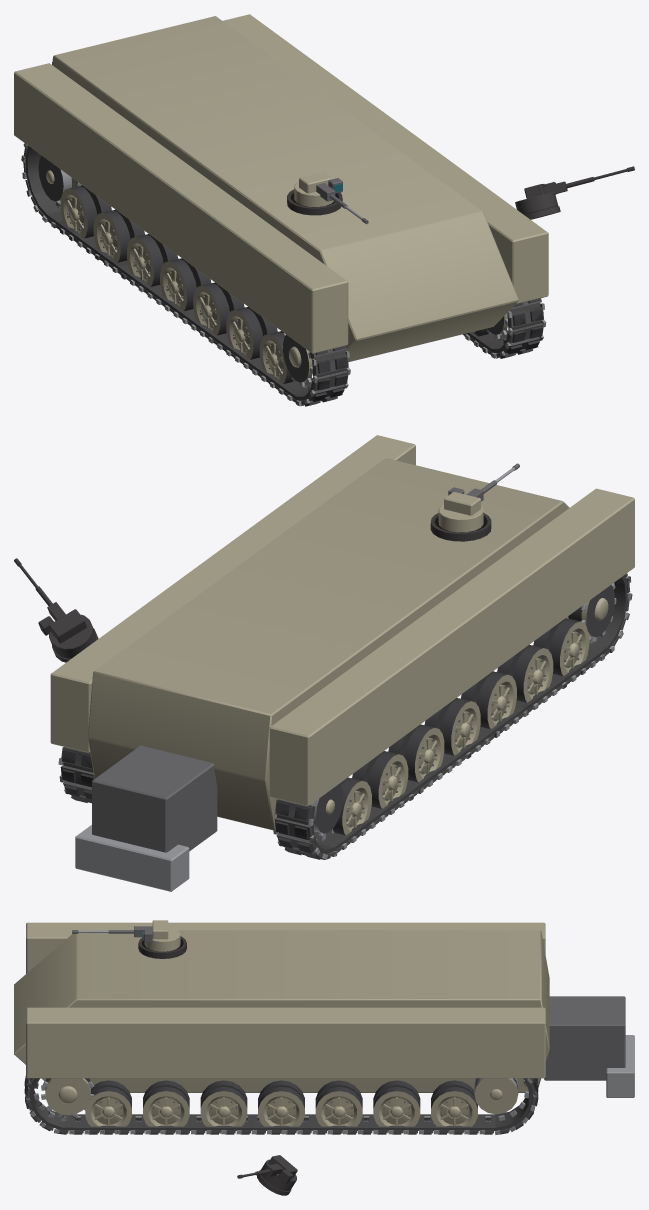
Rendered from mineLayer__gmz_3.glb.
3 views of the same model, one above another, from view 1: azimuth 30°, elevation 25°; view 2: azimuth 150°, elevation 25°; view 3: azimuth 270°, elevation 25° (orthographic). The views are drawn at different scales.
Parts seen in each view (by area): view 1: Hull_Mesh, Track_L_Mesh, Wreck, Track_R_Mesh, Wheel_L4_Mesh, Wheel_L5_Mesh, Wheel_L3_Mesh, Wheel_L0_Mesh, Wheel_L1_Mesh, Wheel_L2_Mesh, Wheel_L6_Mesh, Turret_Mesh (+2 smaller); view 2: Hull_Mesh, Track_L_Mesh, Wreck, Wheel_L3_Mesh, Wheel_L2_Mesh, Wheel_L5_Mesh, Wheel_L4_Mesh, Wheel_L1_Mesh, Wheel_L6_Mesh, Turret_Mesh, Wheel_L0_Mesh, Track_R_Mesh (+2 smaller); view 3: Hull_Mesh, Track_R_Mesh, Wreck, Wheel_R4_Mesh, Wheel_R2_Mesh, Wheel_R1_Mesh, Wheel_R5_Mesh, Wheel_R3_Mesh, Wheel_R0_Mesh, Wheel_R6_Mesh, Sprocket_R_Mesh, Idler_R_Mesh (+1 smaller).
Part boxes in pixels (x1,y1,x2,y2): Hull_Mesh: [14, 14, 548, 362]; Track_L_Mesh: [21, 143, 350, 406]; Wreck: [21, 143, 634, 404]; Track_R_Mesh: [463, 298, 546, 358]; Wheel_L4_Mesh: [193, 282, 244, 335]; Wheel_L5_Mesh: [226, 307, 277, 359]; Wheel_L3_Mesh: [160, 258, 211, 311]; Wheel_L0_Mesh: [60, 185, 111, 238]; Wheel_L1_Mesh: [93, 209, 144, 262]; Wheel_L2_Mesh: [127, 234, 178, 286]; Wheel_L6_Mesh: [259, 331, 293, 383]; Turret_Mesh: [294, 172, 342, 206]; Hull_Mesh: [50, 435, 634, 891]; Track_L_Mesh: [273, 573, 631, 859]; Wreck: [14, 513, 632, 859]; Wheel_L3_Mesh: [424, 698, 480, 755]; Wheel_L2_Mesh: [388, 724, 444, 782]; Wheel_L5_Mesh: [497, 644, 553, 702]; Wheel_L4_Mesh: [461, 671, 516, 729]; Wheel_L1_Mesh: [352, 751, 408, 808]; Wheel_L6_Mesh: [533, 618, 589, 676]; Turret_Mesh: [438, 487, 483, 532]; Wheel_L0_Mesh: [332, 777, 371, 835]; Track_R_Mesh: [58, 747, 94, 803]; Hull_Mesh: [14, 922, 634, 1097]; Track_R_Mesh: [25, 1076, 538, 1134]; Wreck: [24, 936, 538, 1195]; Wheel_R4_Mesh: [200, 1080, 247, 1133]; Wheel_R2_Mesh: [315, 1080, 362, 1133]; Wheel_R1_Mesh: [373, 1080, 420, 1132]; Wheel_R5_Mesh: [143, 1080, 189, 1133]; Wheel_R3_Mesh: [258, 1080, 304, 1133]; Wheel_R0_Mesh: [431, 1080, 477, 1133]; Wheel_R6_Mesh: [85, 1080, 131, 1133]; Sprocket_R_Mesh: [41, 1078, 94, 1117]; Idler_R_Mesh: [474, 1078, 518, 1114].
Size of what is drawn, in the model's own units: 6.2 by 2.24 by 8.62.
